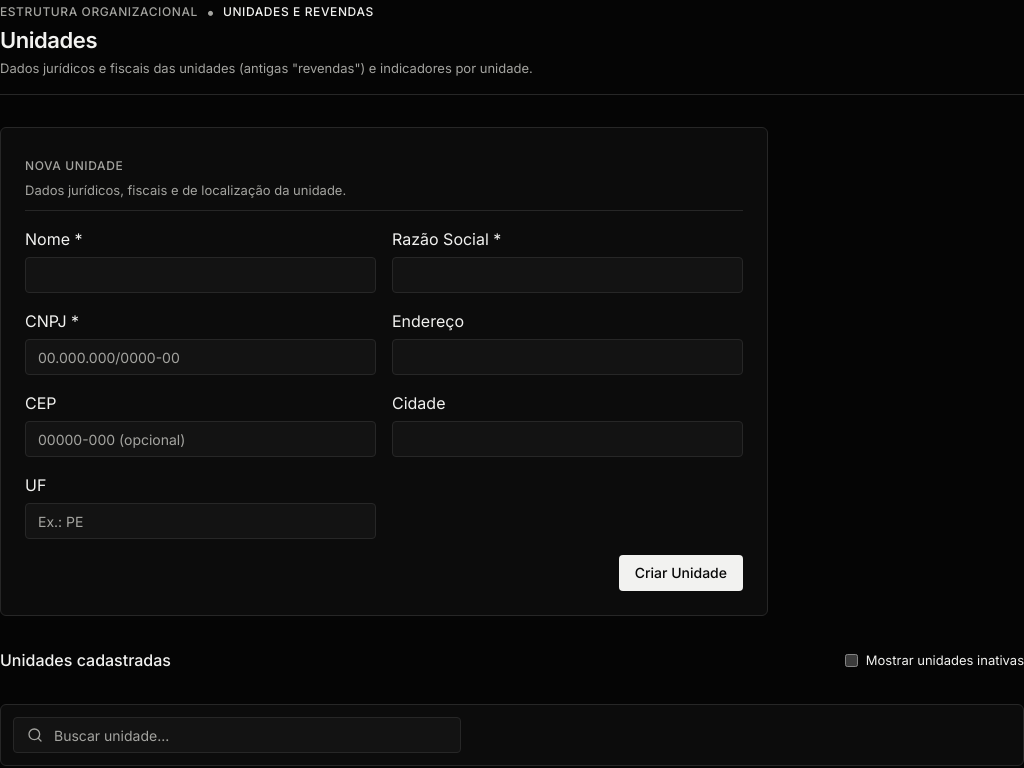
Test: UnidadesPage — mostrar inativas e reativação › por padrão só lista unidades ativas; a alternância revela as inativas
This screenshot has width=1024, height=768.
Expected: the text "Recife" is not shown
Click the checkbox labelled "Mostrar unidades inativas": (851, 660) [845,654,858,666]
(page scrolled)
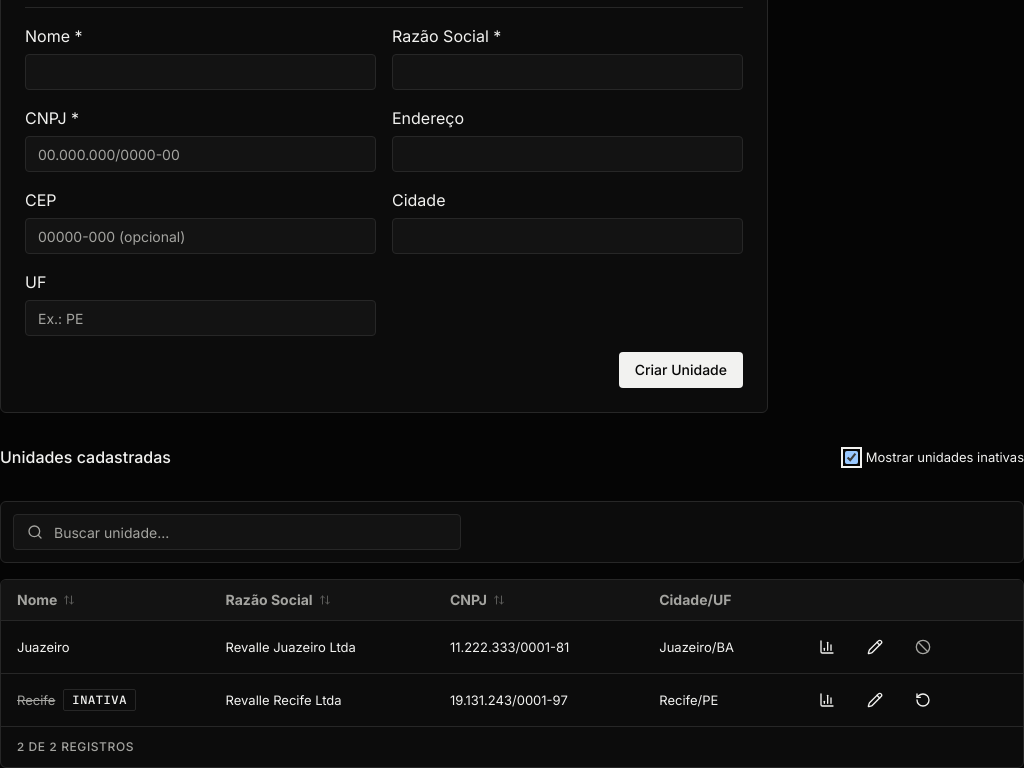
Expected: the text "Juazeiro" is shown, [17,637,70,657]
Expected: the text "Recife" is shown, [17,690,55,710]
